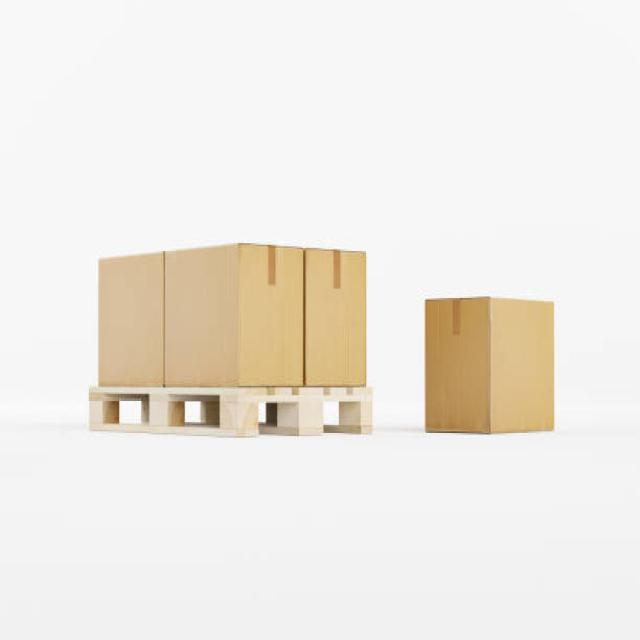Wooden-Pallets: (87, 388, 382, 448)
